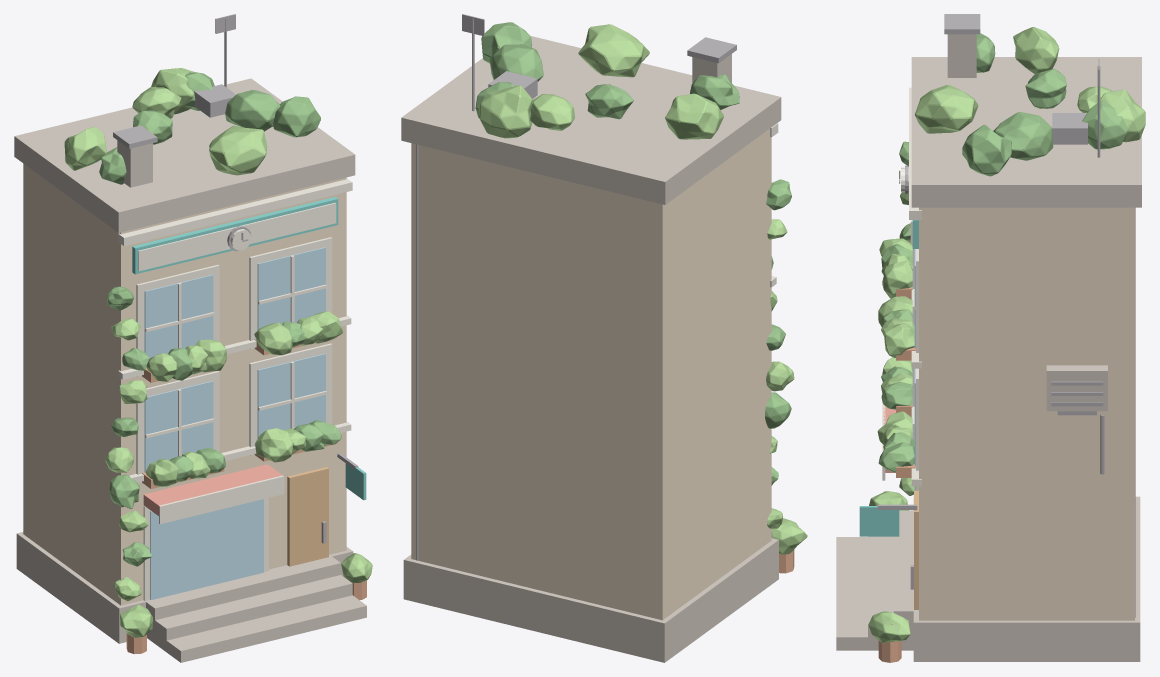
The model's file is Shop_A.fbx.
3 views of the same model, side by side, from view 1: azimuth 30°, elevation 25°; view 2: azimuth 150°, elevation 25°; view 3: azimuth 270°, elevation 25° (orthographic). The views are drawn at different scales.
Parts seen in each view (by area): view 1: Shop_A, Shop_A_Veg; view 2: Shop_A, Shop_A_Veg; view 3: Shop_A, Shop_A_Veg.
Boxes of the visible parts, x1,y1,x2,y2 form: Shop_A: (14, 14, 366, 662); Shop_A_Veg: (64, 68, 372, 637); Shop_A: (401, 14, 794, 662); Shop_A_Veg: (475, 22, 807, 554); Shop_A: (836, 14, 1141, 662); Shop_A_Veg: (868, 27, 1145, 643).
Bounding box in the file's own units: 4.5 × 8.8 × 4.3.
